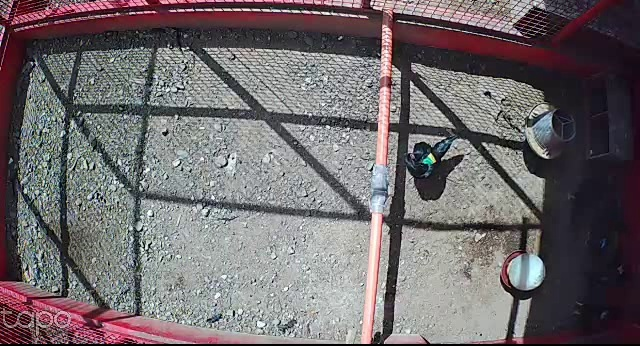Chicken: (404, 135, 461, 180)
Drinker: (501, 250, 548, 291)
Feeder: (523, 101, 578, 163)
Saddle_Color_YellowGreen: (423, 151, 435, 166)
